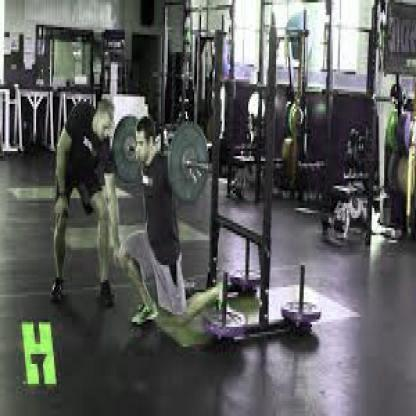Barbell: (199, 160, 213, 180)
